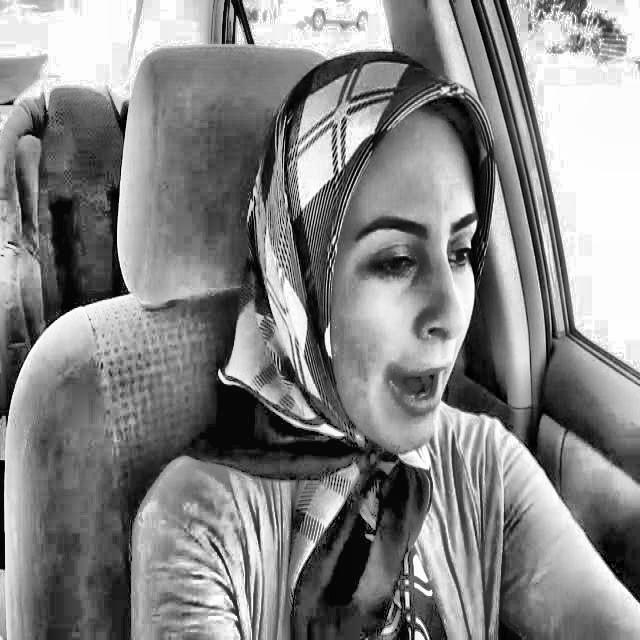open_eyes: (356, 236, 425, 291), (431, 232, 485, 284)
open_mouth: (375, 352, 463, 430)
